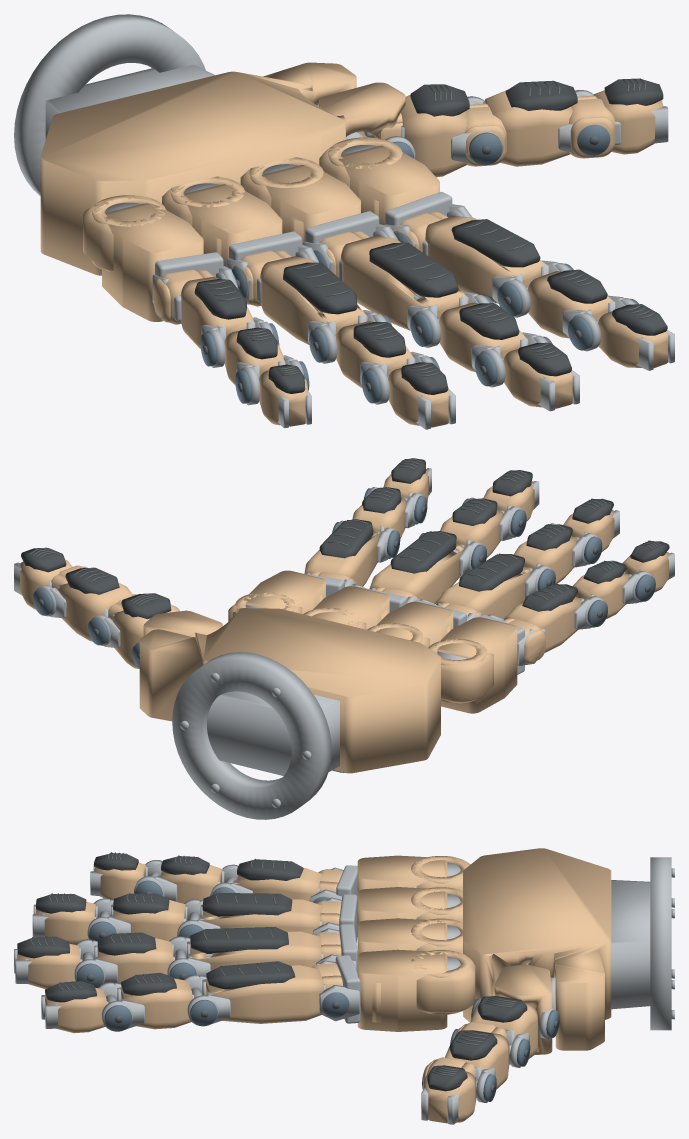
File: sora8.glb
3 renders of one model, top to bottom at view 1: azimuth 30°, elevation 25°; view 2: azimuth 150°, elevation 25°; view 3: azimuth 270°, elevation 25°, orthographic. The views are drawn at different scales.
Visible parts, largest first — view 1: visual__central_palm__0, visual__central_palm__1, visual__palm_little_float_link__2, visual__thumb_proximal__0, visual__palm_index_float_link__2, visual__palm_ring_float_link__2, visual__thumb_metacarpal__0, visual__middle_proximal__0, visual__palm_middle_float_link__2, visual__index_proximal__0, visual__ring_proximal__0, visual__thumb_oppose_link__1 (+48 smaller); view 2: visual__central_palm__0, visual__central_palm__1, visual__palm_little_float_link__2, visual__palm_index_float_link__2, visual__middle_proximal__0, visual__palm_middle_float_link__2, visual__ring_proximal__0, visual__thumb_proximal__0, visual__palm_ring_float_link__2, visual__little_proximal__0, visual__index_proximal__0, visual__middle_proximal__4 (+27 smaller); view 3: visual__central_palm__0, visual__central_palm__1, visual__palm_index_float_link__2, visual__index_proximal__0, visual__palm_ring_float_link__2, visual__middle_proximal__0, visual__palm_little_float_link__2, visual__thumb_oppose_link__1, visual__palm_middle_float_link__2, visual__middle_proximal__4, visual__ring_proximal__0, visual__index_middle__0 (+50 smaller).
Boxes of the visible parts, x1,y1,x2,y2 form: visual__central_palm__0: [40, 62, 403, 275]; visual__central_palm__1: [14, 14, 318, 196]; visual__palm_little_float_link__2: [102, 203, 203, 321]; visual__thumb_proximal__0: [484, 90, 615, 166]; visual__palm_index_float_link__2: [338, 145, 439, 224]; visual__palm_ring_float_link__2: [181, 184, 282, 266]; visual__thumb_metacarpal__0: [401, 94, 506, 177]; visual__middle_proximal__0: [340, 236, 468, 330]; visual__palm_middle_float_link__2: [261, 165, 360, 244]; visual__index_proximal__0: [425, 216, 549, 303]; visual__ring_proximal__0: [260, 256, 367, 344]; visual__thumb_oppose_link__1: [319, 82, 405, 139]; visual__central_palm__0: [139, 592, 493, 773]; visual__central_palm__1: [172, 652, 339, 819]; visual__palm_little_float_link__2: [435, 617, 517, 713]; visual__palm_index_float_link__2: [244, 570, 325, 614]; visual__middle_proximal__0: [369, 544, 464, 604]; visual__palm_middle_float_link__2: [312, 586, 389, 629]; visual__ring_proximal__0: [436, 567, 531, 619]; visual__thumb_proximal__0: [51, 565, 132, 641]; visual__palm_ring_float_link__2: [374, 601, 453, 645]; visual__little_proximal__0: [504, 596, 582, 652]; visual__index_proximal__0: [304, 531, 379, 586]; visual__middle_proximal__4: [390, 531, 456, 573]; visual__central_palm__0: [411, 848, 611, 1050]; visual__central_palm__1: [527, 857, 674, 1030]; visual__palm_index_float_link__2: [357, 949, 447, 1031]; visual__index_proximal__0: [205, 965, 324, 1023]; visual__palm_ring_float_link__2: [357, 887, 447, 923]; visual__middle_proximal__0: [190, 931, 321, 970]; visual__palm_little_float_link__2: [357, 855, 447, 891]; visual__thumb_oppose_link__1: [494, 964, 552, 1054]; visual__palm_middle_float_link__2: [357, 918, 447, 954]; visual__middle_proximal__4: [190, 927, 288, 953]; visual__ring_proximal__0: [202, 899, 321, 934]; visual__index_middle__0: [120, 978, 192, 1029].
Bounding box in the file's own units: 0.1838 × 0.056 × 0.2136.
